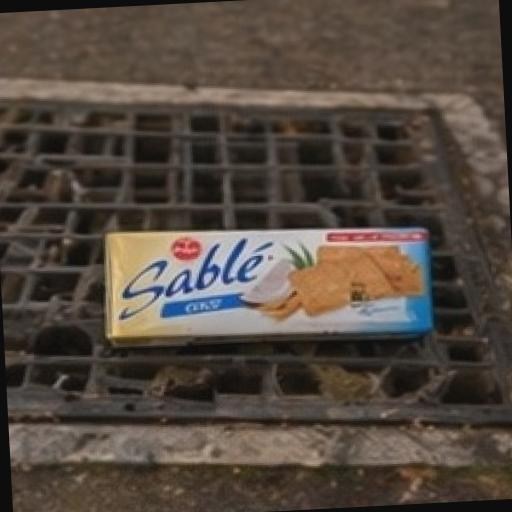sable: (26, 138, 512, 456)
